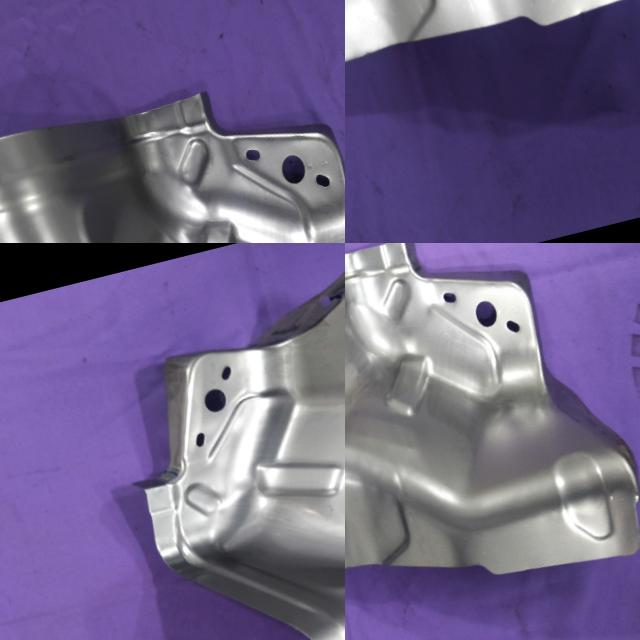Healthy: (90, 243, 345, 640), (0, 28, 345, 243), (345, 0, 640, 125)
